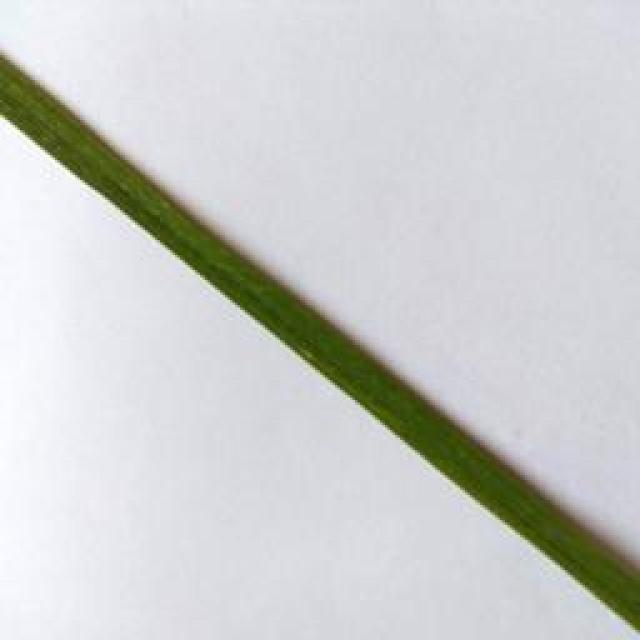Brown_Spot: (299, 343, 320, 366)
